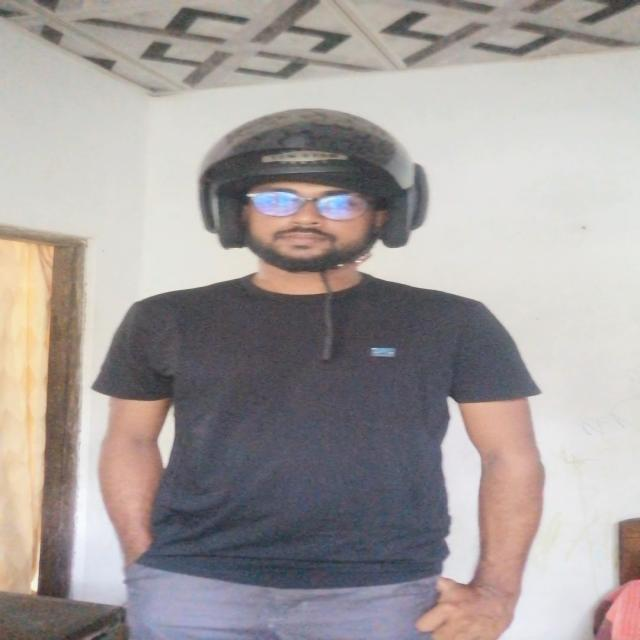Helmet_Wearer: (180, 109, 446, 297)
Person: (87, 107, 546, 640)
